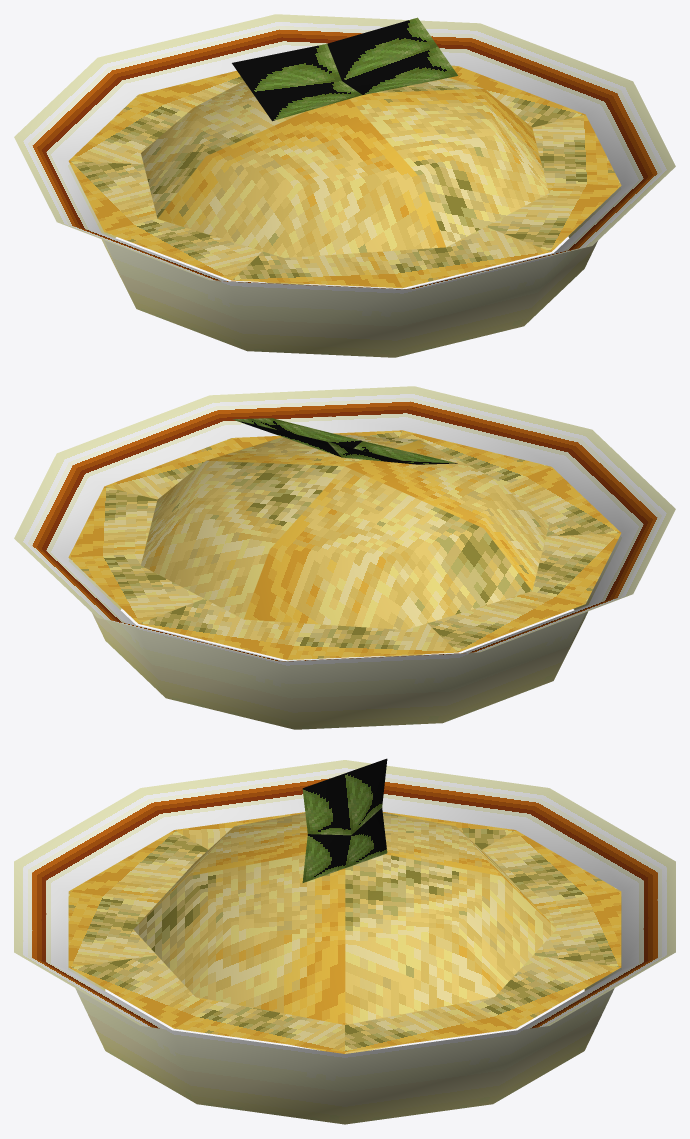
The picture shows the model from 3 angles, top to bottom: view 1: azimuth 30°, elevation 25°; view 2: azimuth 150°, elevation 25°; view 3: azimuth 270°, elevation 25°; orthographic projection. The views are drawn at different scales.
Parts seen in each view (by area): view 1: spps_y; view 2: spps_y; view 3: spps_y.
Boxes of the visible parts, x1,y1,x2,y2 form: spps_y: (14,14,675,357); spps_y: (14,386,675,729); spps_y: (14,758,675,1124).
Size of the model in its own units: 0.8091 by 0.2722 by 0.7695.
3 materials, 3 textured.
